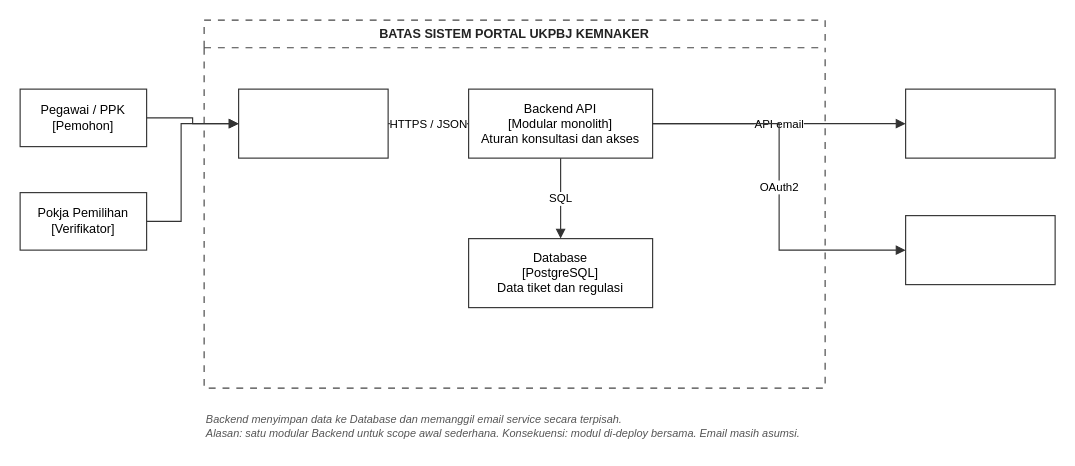
This 1075x466 diagram has some shape labels left out. The centre of each missing label's shape, as x and y in pixels:
"Email service [External] Kirim notifikasi" belongs at point (979, 123).
"SSO SIAPKerja [External] Validasi login" belongs at point (979, 249).
"Web app [Next.js] UI pada browser" belongs at point (312, 123).
